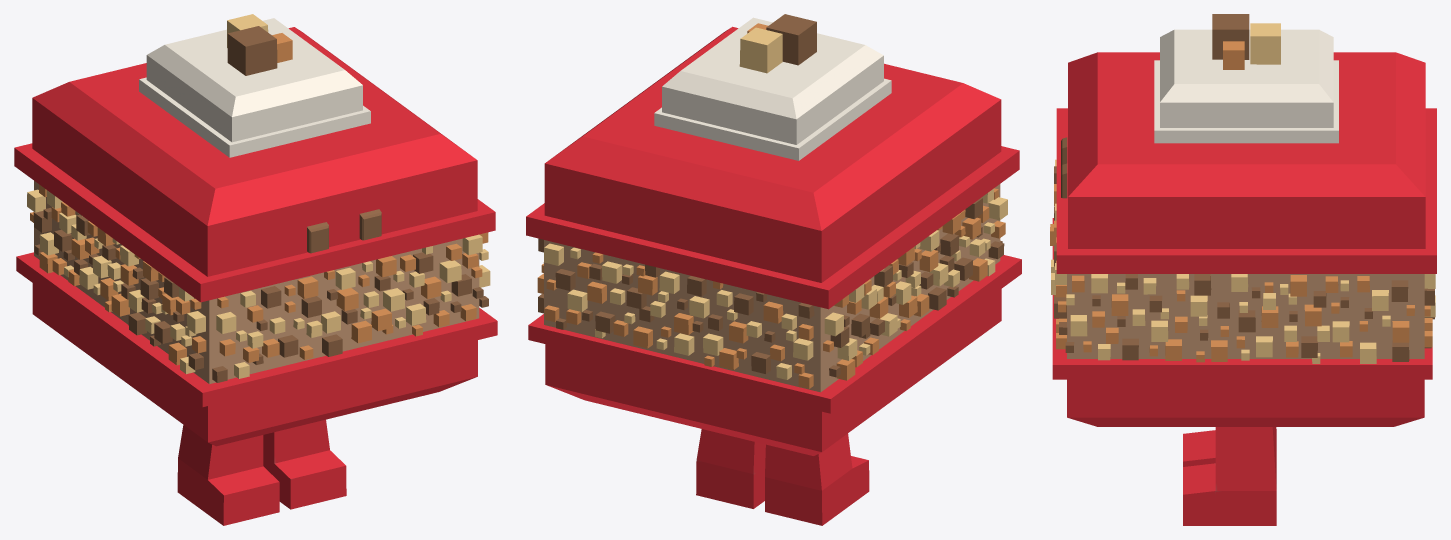
Rendered from st1_block11.fbx.
The picture shows the model from 3 angles, left to right: view 1: azimuth 30°, elevation 25°; view 2: azimuth 150°, elevation 25°; view 3: azimuth 270°, elevation 25°; orthographic projection. The views are drawn at different scales.
Visible parts, largest first — view 1: st1_block11_head, st1_block11_down, st1_block11_middle_box, st1_block11_head_ad, st1_block11_middle, st1_block11_L_leg, st1_block11_R_leg, st1_block11_head_ad2, st1_block11_R_eye, st1_block11_L_eye; view 2: st1_block11_head, st1_block11_down, st1_block11_middle_box, st1_block11_head_ad, st1_block11_middle, st1_block11_L_leg, st1_block11_R_leg, st1_block11_head_ad2; view 3: st1_block11_head, st1_block11_down, st1_block11_head_ad, st1_block11_middle, st1_block11_middle_box, st1_block11_R_leg, st1_block11_head_ad2, st1_block11_L_leg.
Part boxes in pixels (bbox=[...]): st1_block11_head: bbox=[14, 27, 495, 302]; st1_block11_down: bbox=[16, 252, 497, 446]; st1_block11_middle_box: bbox=[27, 184, 490, 382]; st1_block11_head_ad: bbox=[139, 18, 370, 157]; st1_block11_middle: bbox=[34, 181, 479, 383]; st1_block11_L_leg: bbox=[177, 425, 279, 525]; st1_block11_R_leg: bbox=[263, 419, 346, 509]; st1_block11_head_ad2: bbox=[227, 14, 292, 75]; st1_block11_R_eye: bbox=[359, 209, 381, 240]; st1_block11_L_eye: bbox=[307, 222, 328, 253]; st1_block11_head: bbox=[526, 26, 1019, 309]; st1_block11_down: bbox=[528, 255, 1021, 455]; st1_block11_middle_box: bbox=[537, 188, 1007, 388]; st1_block11_head_ad: bbox=[654, 17, 891, 160]; st1_block11_middle: bbox=[544, 184, 1000, 392]; st1_block11_L_leg: bbox=[765, 433, 869, 525]; st1_block11_R_leg: bbox=[696, 429, 765, 508]; st1_block11_head_ad2: bbox=[739, 14, 816, 73]; st1_block11_head: bbox=[1056, 52, 1436, 273]; st1_block11_down: bbox=[1052, 218, 1432, 426]; st1_block11_head_ad: bbox=[1154, 29, 1338, 143]; st1_block11_middle: bbox=[1067, 274, 1424, 358]; st1_block11_middle_box: bbox=[1050, 159, 1435, 363]; st1_block11_R_leg: bbox=[1183, 427, 1276, 525]; st1_block11_head_ad2: bbox=[1212, 14, 1280, 69]; st1_block11_L_leg: bbox=[1183, 427, 1276, 466].
Size of the model in its own units: 449 by 663 by 495.
1 material, 1 textured.
